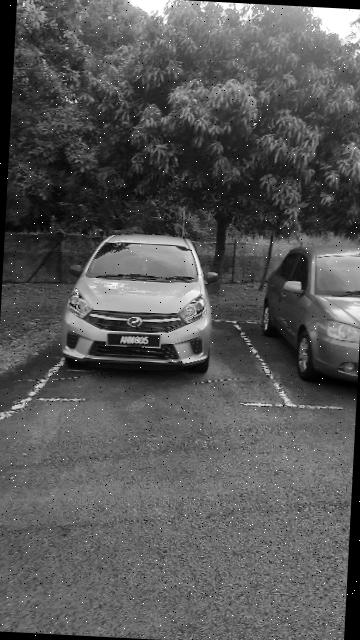License_Plate: (107, 330, 166, 351)
car: (59, 228, 222, 373)
